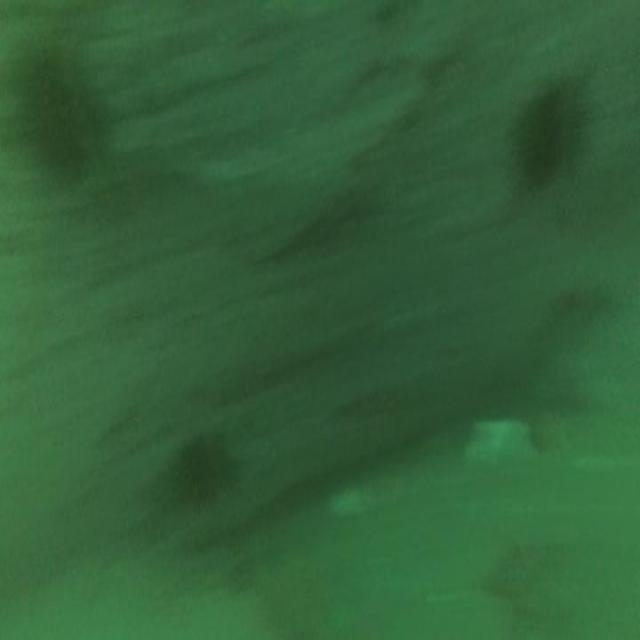echinus: (14, 42, 108, 198), (505, 65, 593, 207), (170, 426, 238, 514)
